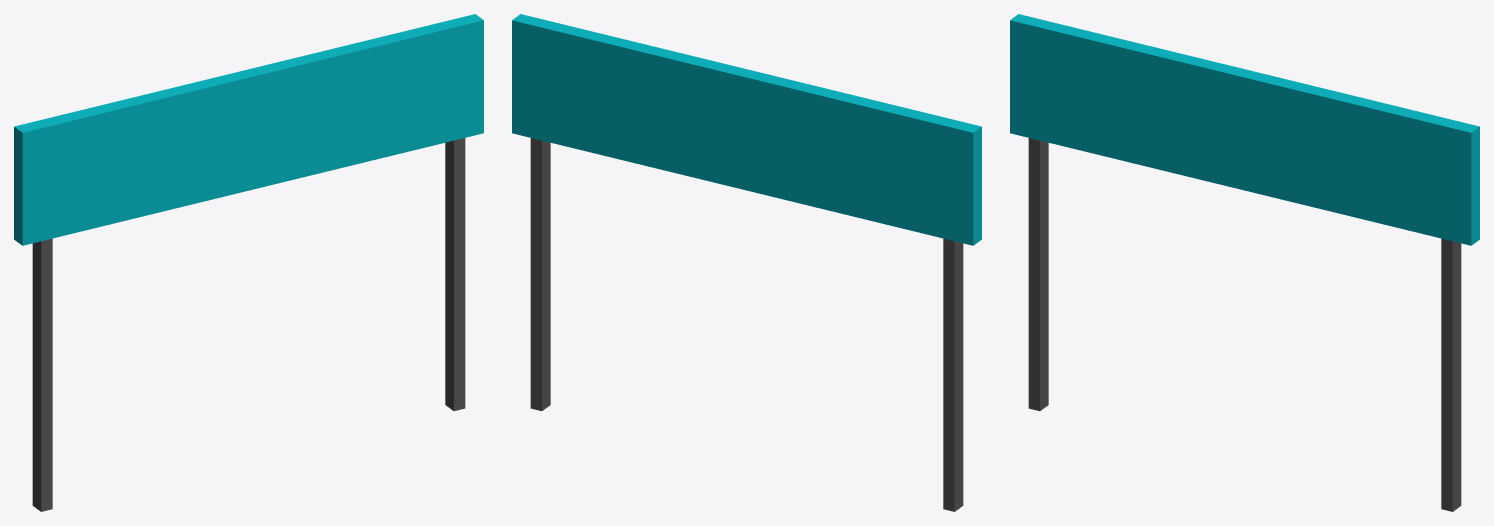
File: Start_Finish.obj
3 views of the same model, side by side, from view 1: azimuth 30°, elevation 25°; view 2: azimuth 150°, elevation 25°; view 3: azimuth 330°, elevation 25° (orthographic).
Parts seen in each view (by area): view 1: Start/Finish; view 2: Start/Finish; view 3: Start/Finish.
Part boxes in pixels (x1,y1,x2,y2): Start/Finish: [14, 14, 483, 511]; Start/Finish: [512, 14, 981, 511]; Start/Finish: [1010, 14, 1479, 511].
Bounding box in the file's own units: 8.55 × 6.79 × 0.2765.
